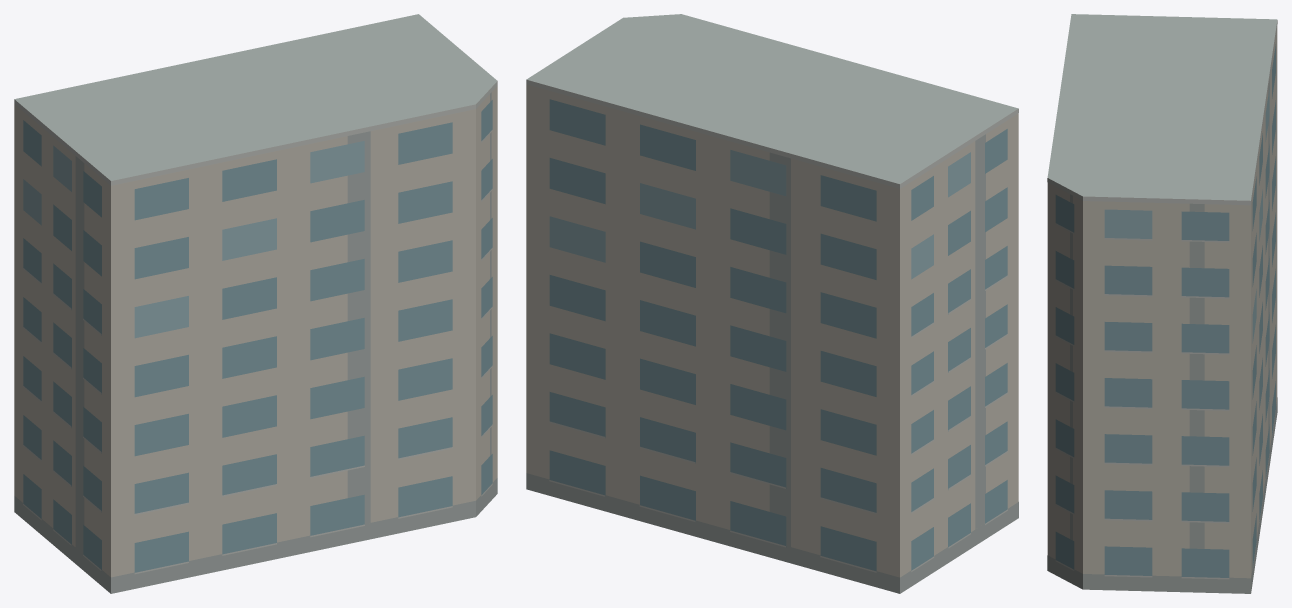
Rendered from survey-upis-33016222.glb.
3 renders of one model, left to right at view 1: azimuth 30°, elevation 25°; view 2: azimuth 150°, elevation 25°; view 3: azimuth 270°, elevation 25°, orthographic. The views are drawn at different scales.
Visible parts, largest first — view 1: survey-upis-33016222.tmp; view 2: survey-upis-33016222.tmp; view 3: survey-upis-33016222.tmp.
Boxes of the visible parts, bbox=[...] form: survey-upis-33016222.tmp: bbox=[14, 14, 497, 593]; survey-upis-33016222.tmp: bbox=[526, 14, 1018, 593]; survey-upis-33016222.tmp: bbox=[1047, 14, 1277, 593].
Size of the model in its own units: 21.77 by 21.35 by 11.33.
